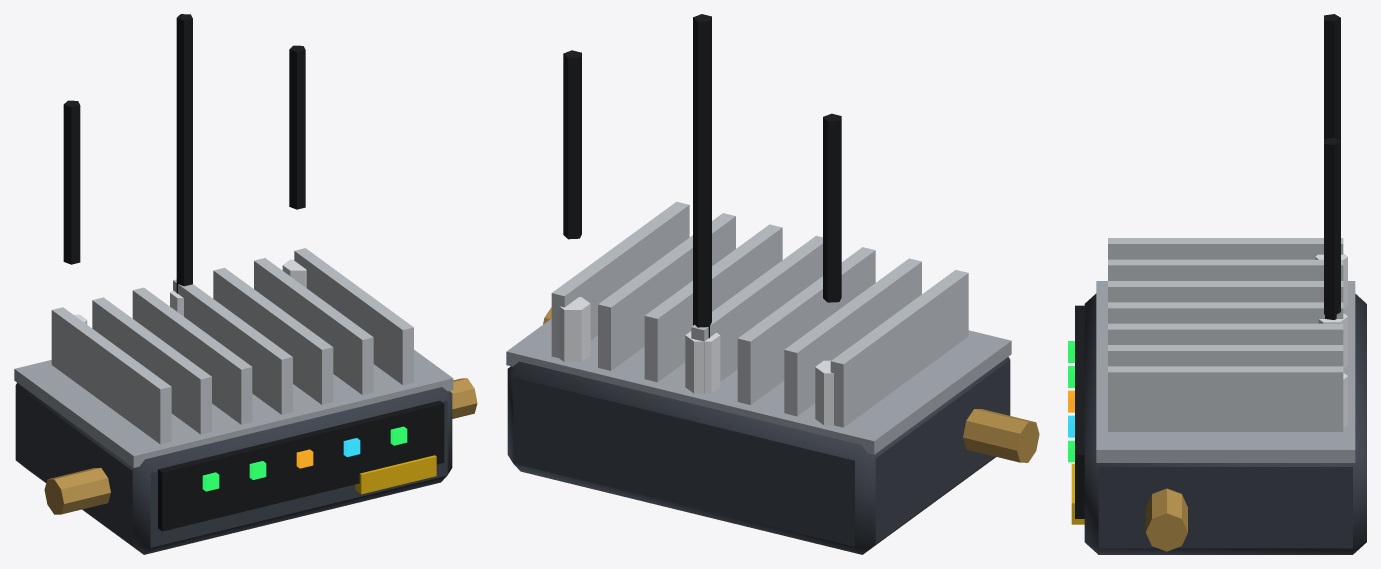
The model's file is commsunit_signal_booster.glb.
The picture shows the model from 3 angles, left to right: view 1: azimuth 30°, elevation 25°; view 2: azimuth 150°, elevation 25°; view 3: azimuth 270°, elevation 25°; orthographic projection. The views are drawn at different scales.
Parts seen in each view (by area): view 1: commsunit_signal_booster; view 2: commsunit_signal_booster; view 3: commsunit_signal_booster.
Part boxes in pixels (box(x1,y1,x2,y2)): commsunit_signal_booster: box(14, 14, 477, 554); commsunit_signal_booster: box(506, 14, 1039, 554); commsunit_signal_booster: box(1068, 14, 1366, 554).
Bounding box in the file's own units: 0.44 × 0.43 × 0.254.
